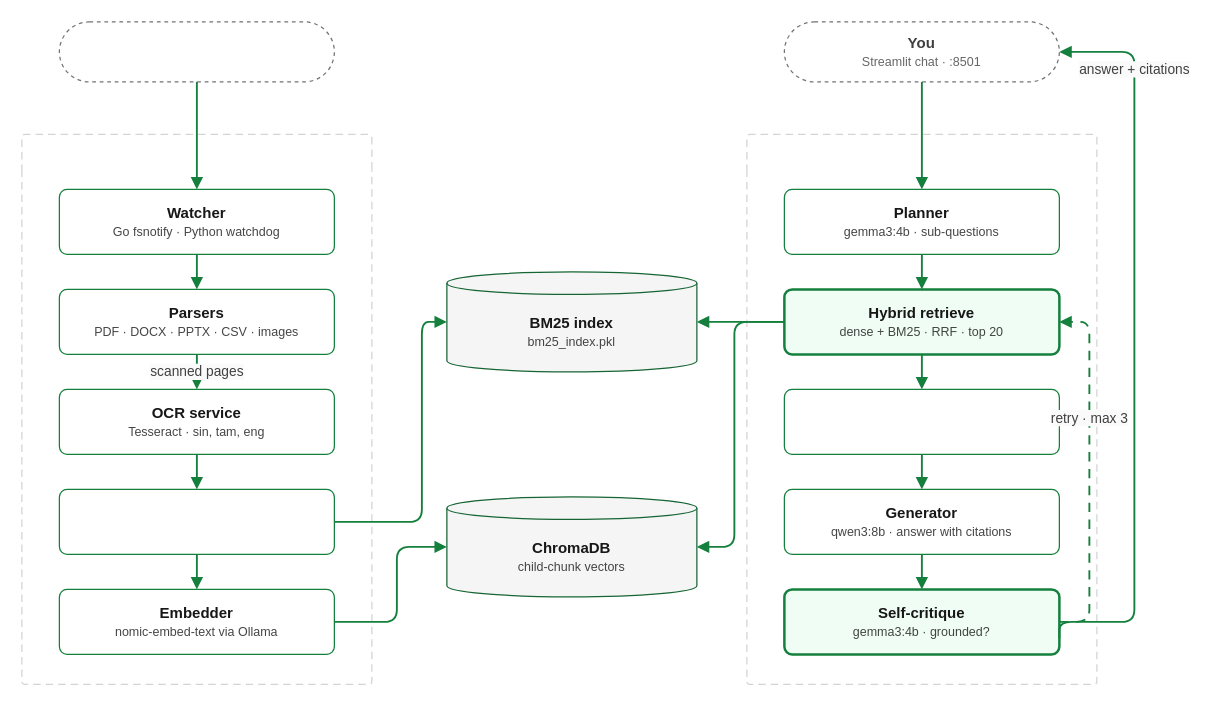
This 1210x706 diagram has some shape labels left out. Here are the shapes that lost their labels. From the top down, the box of each, then its label:
(58, 21, 334, 82): watched_docs/ drop any file here
(21, 133, 372, 684): Ingestion · on file drop
(783, 388, 1059, 454): Rerank BGE cross-encoder · top 10
(746, 133, 1097, 684): Query · LangGraph
(58, 488, 334, 554): Chunker parent 1024 · child 256 tokens
